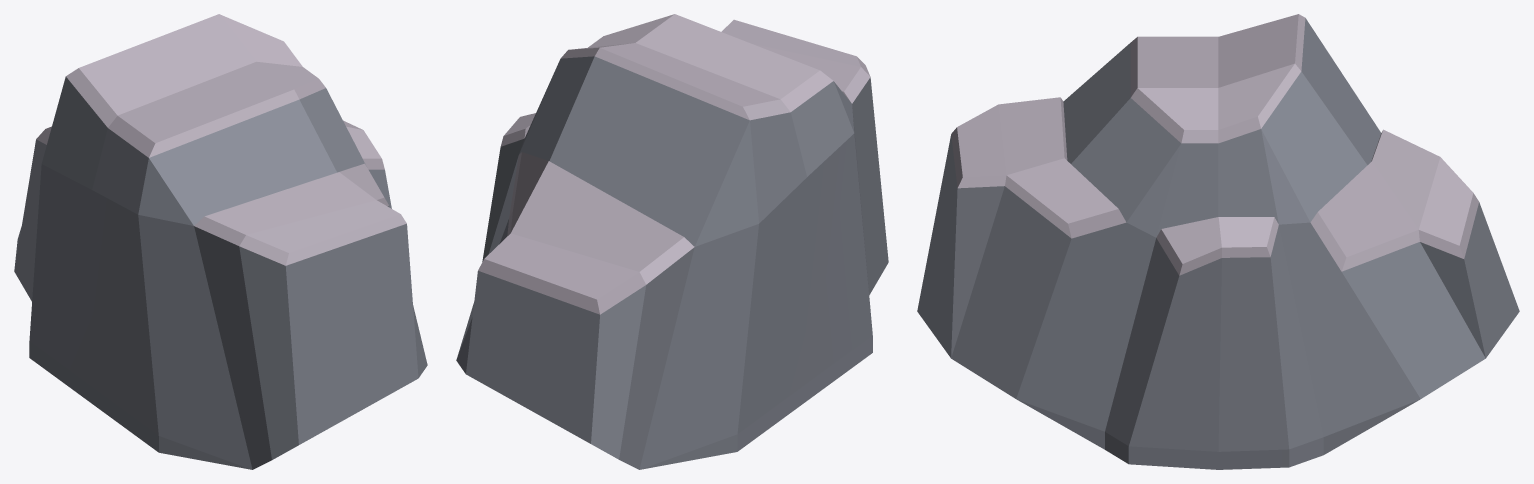
The model's file is rock_snow_4.glb.
3 renders of one model, left to right at view 1: azimuth 30°, elevation 25°; view 2: azimuth 150°, elevation 25°; view 3: azimuth 270°, elevation 25°, orthographic. The views are drawn at different scales.
Visible parts, largest first — view 1: rock_snow_4; view 2: rock_snow_4; view 3: rock_snow_4.
Part boxes in pixels (x1,y1,x2,y2): rock_snow_4: [14, 14, 427, 469]; rock_snow_4: [456, 14, 888, 469]; rock_snow_4: [917, 14, 1519, 469].
Bounding box in the file's own units: 0.7436 × 0.7995 × 1.25.
1 material, 1 textured.
